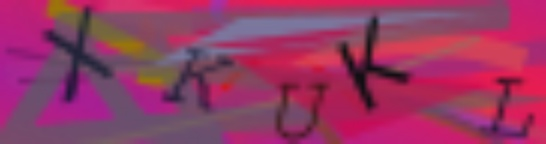K: (336, 13, 414, 115), (160, 43, 238, 117)
L: (478, 71, 539, 142)
U: (272, 81, 329, 144)
X: (37, 2, 117, 103)
